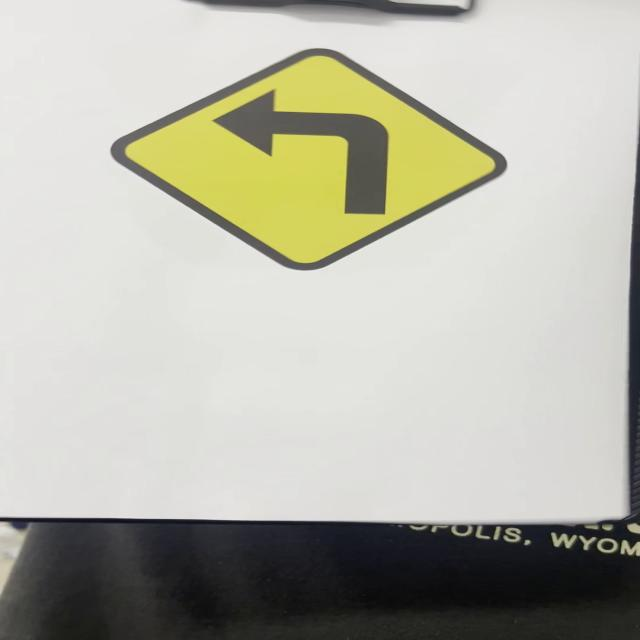left: (111, 45, 507, 270)
